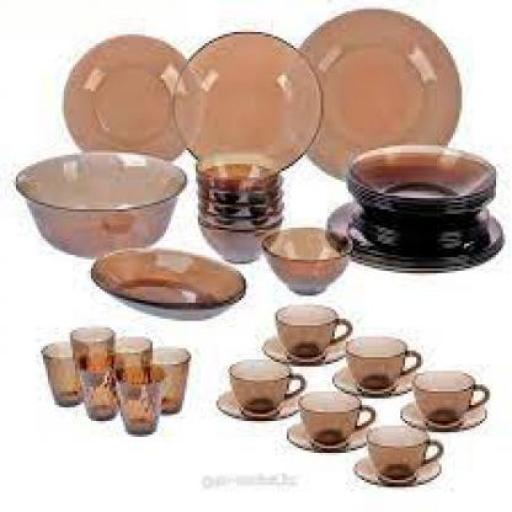glass: (296, 4, 460, 180), (171, 30, 319, 174), (59, 32, 203, 164), (14, 150, 184, 255), (323, 196, 500, 268), (89, 248, 243, 321), (348, 145, 494, 214), (257, 224, 346, 294), (193, 161, 282, 225), (273, 305, 351, 357), (296, 392, 374, 444), (366, 422, 441, 476), (195, 218, 283, 264), (228, 358, 302, 412), (344, 335, 418, 386), (412, 370, 486, 421), (114, 359, 159, 432), (138, 344, 186, 409), (41, 339, 87, 403), (259, 332, 347, 364), (352, 453, 439, 485), (284, 418, 370, 450), (330, 362, 416, 394), (75, 355, 118, 417), (214, 387, 298, 417), (400, 398, 482, 428), (194, 150, 275, 180), (68, 326, 112, 364), (111, 335, 151, 368)
